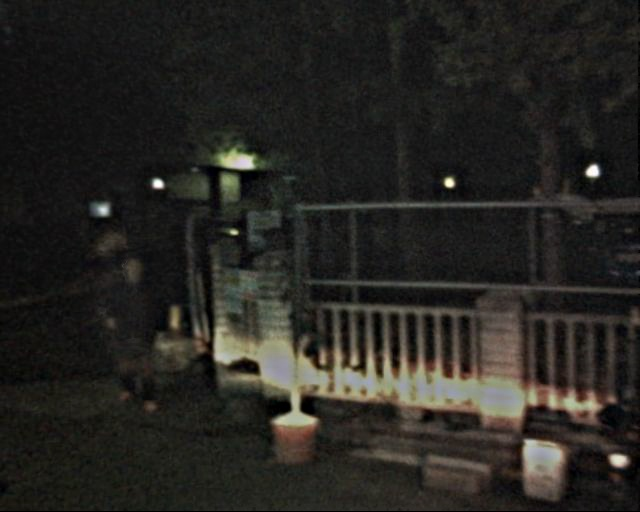person: (99, 239, 162, 411)
